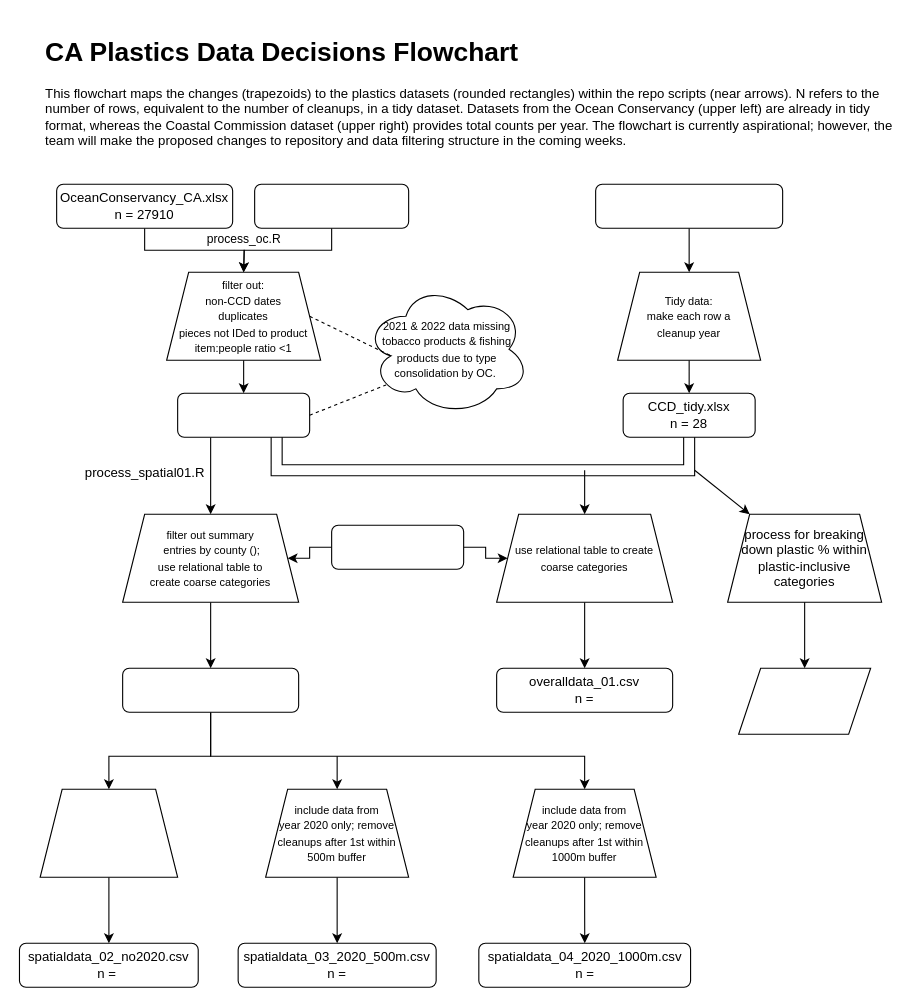
Image size: 923x1007. Some labels were removed from this diagram. The shapes that lost their labels are listed below. From the top down, each one's centre as x and y in pixels, then its label:
[331,205]: OC_CA_2021_2022.xlsx n = 4994
[689,205]: Coastalcleanupday_data.xlsx (not tidy)
[243,414]: OC_tidy.xlsx n = 8197
[397,546]: coarse_data_ relational_table.xlsx
[210,689]: spatialdata_01_main.csv n = 8178
[804,700]: .Rmd with figures of plastic-inclusive categories
[108,832]: remove: data from year 2020
